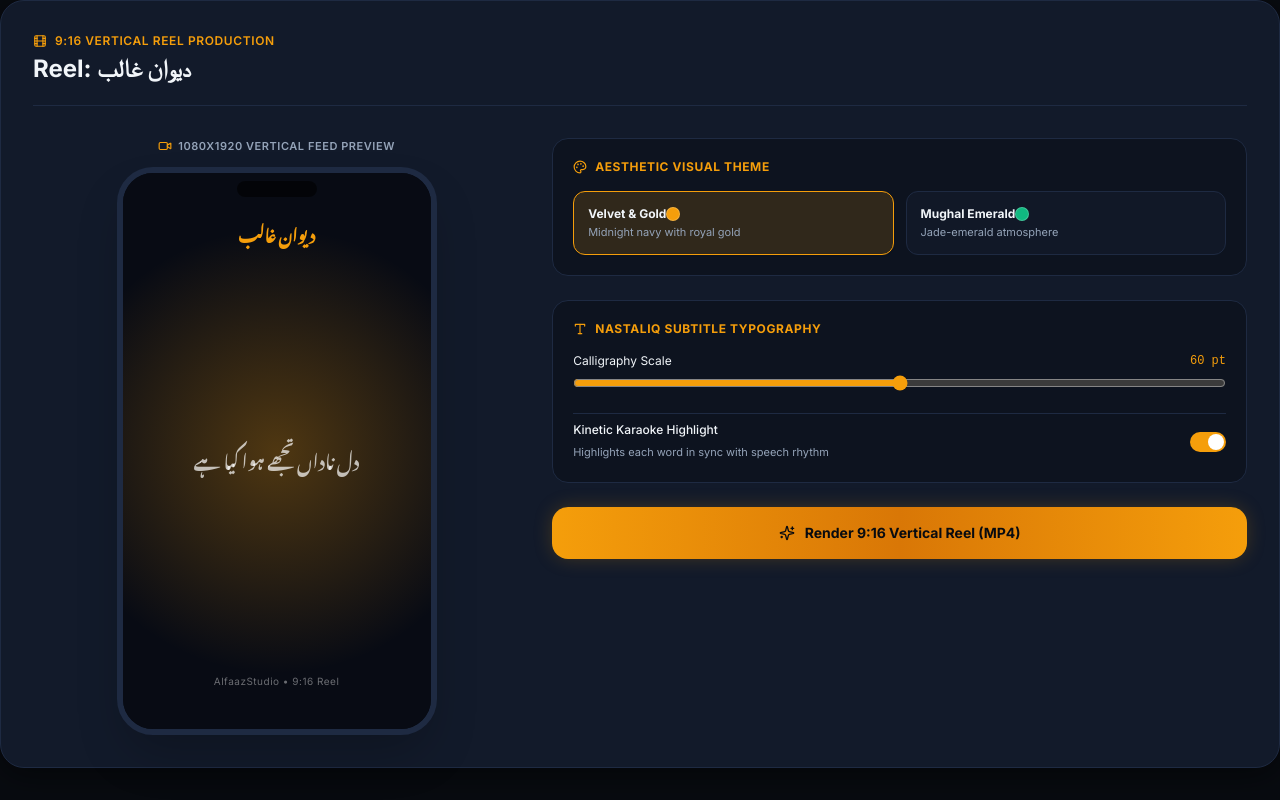
Test: ReelPreview Component › adjusts calligraphy font size slider
Expected: the text "60 pt" is shown, [1190,353,1226,369]
Set the slider to "72" at (1091, 383), box [573,375,1226,391]
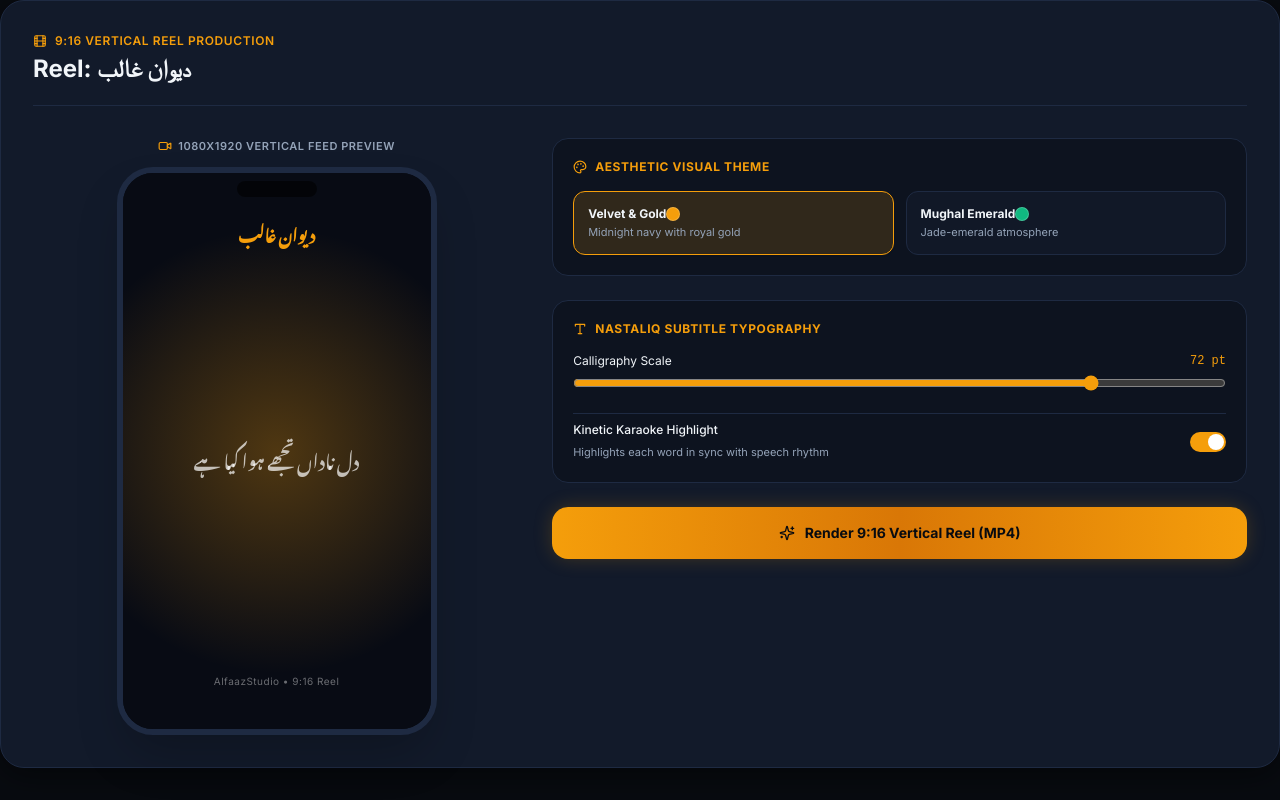
Now the text "72 pt" is shown, box [1190,353,1226,369]
